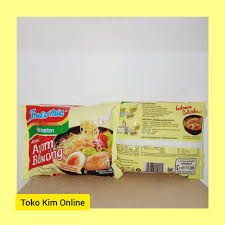Indomie Ayam Bawang (69g): (15, 99, 119, 176), (120, 98, 204, 178)
